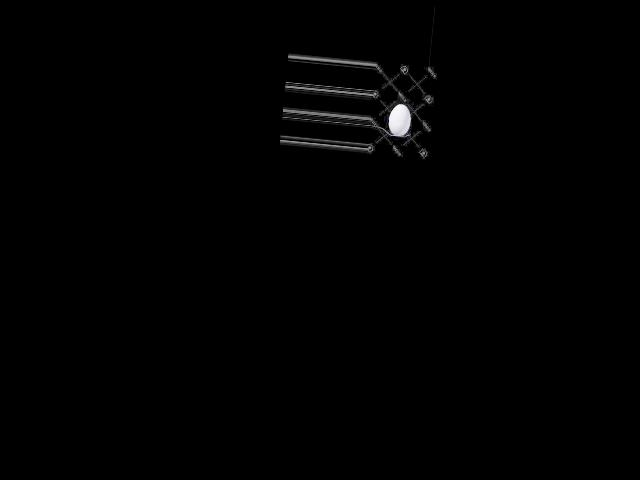egg: (386, 103, 412, 137)
